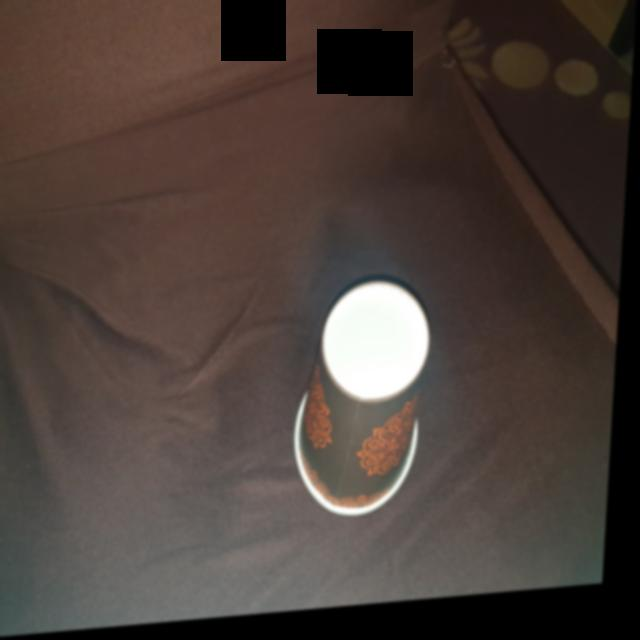cups: (296, 278, 442, 529)
